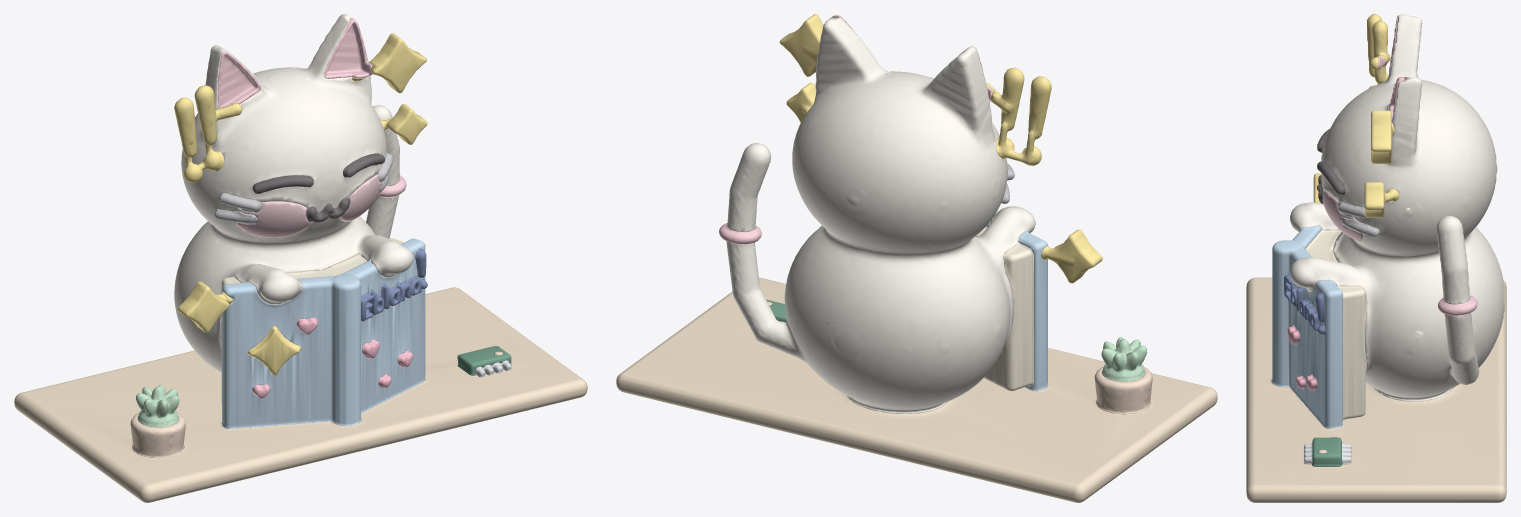
File: figure-cat.glb
3 views of the same model, side by side, from view 1: azimuth 30°, elevation 25°; view 2: azimuth 150°, elevation 25°; view 3: azimuth 270°, elevation 25° (orthographic). The views are drawn at different scales.
Parts seen in each view (by area): view 1: 15_wood, 11_cream, 13_cover, 08_yellow, 07_pinkacc, 06_blush, 01_black, 14_pot, 03_text, 09_leaf, 02_whisker, 04_heart (+2 smaller); view 2: 11_cream, 15_wood, 08_yellow, 12_pages, 13_cover, 14_pot, 09_leaf, 07_pinkacc; view 3: 11_cream, 15_wood, 13_cover, 12_pages, 08_yellow, 03_text, 07_pinkacc, 10_chip, 02_whisker, 01_black, 06_blush, 04_heart (+1 smaller).
Boxes of the visible parts, x1,y1,x2,y2 form: 15_wood: [14, 287, 587, 502]; 11_cream: [174, 14, 413, 372]; 13_cover: [221, 238, 425, 428]; 08_yellow: [174, 33, 427, 375]; 07_pinkacc: [217, 18, 406, 197]; 06_blush: [235, 174, 384, 237]; 01_black: [252, 153, 384, 222]; 14_pot: [130, 412, 185, 458]; 03_text: [361, 248, 427, 321]; 09_leaf: [136, 385, 179, 427]; 02_whisker: [214, 153, 393, 224]; 04_heart: [252, 317, 413, 398]; 11_cream: [726, 16, 1035, 413]; 15_wood: [616, 277, 1217, 502]; 08_yellow: [779, 14, 1102, 283]; 12_pages: [976, 226, 1033, 390]; 13_cover: [986, 221, 1048, 391]; 14_pot: [1094, 366, 1152, 414]; 09_leaf: [1101, 337, 1147, 381]; 07_pinkacc: [719, 15, 992, 244]; 11_cream: [1289, 14, 1504, 401]; 15_wood: [1246, 277, 1506, 502]; 13_cover: [1271, 226, 1342, 428]; 12_pages: [1305, 229, 1367, 419]; 08_yellow: [1313, 14, 1399, 217]; 03_text: [1284, 274, 1325, 334]; 07_pinkacc: [1378, 15, 1477, 315]; 10_chip: [1312, 437, 1342, 466]; 02_whisker: [1338, 201, 1380, 237]; 01_black: [1317, 129, 1345, 204]; 06_blush: [1322, 191, 1362, 240]; 04_heart: [1287, 325, 1317, 390].
Size of the model in its own units: 0.0619 by 0.0478 by 0.0319.
2 materials, 2 textured.
